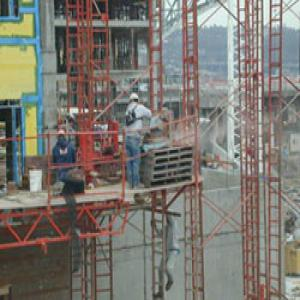white: (130, 94, 141, 105)
